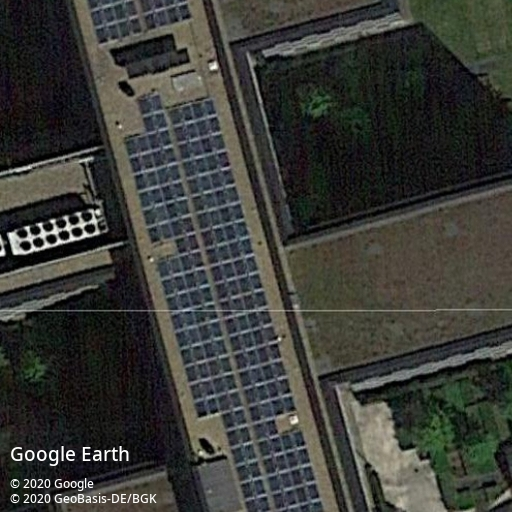Chiller: (6, 208, 100, 258)
